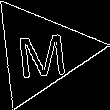M_N: (13, 24, 69, 79)
